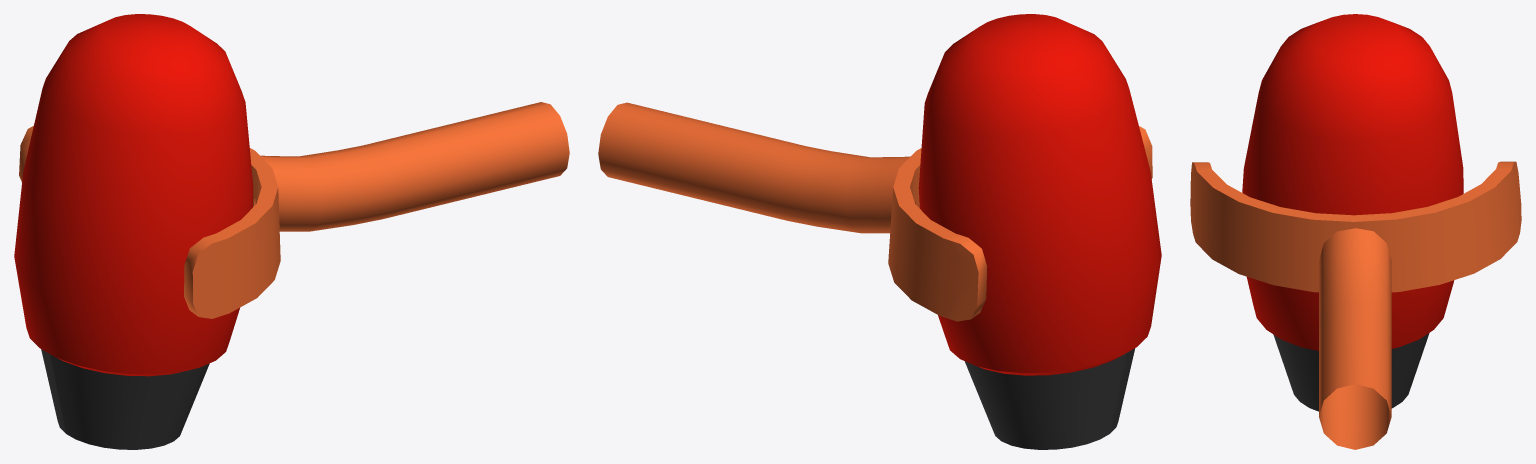
Rendered from Dron_Engine.fbx.
3 renders of one model, left to right at view 1: azimuth 30°, elevation 25°; view 2: azimuth 150°, elevation 25°; view 3: azimuth 270°, elevation 25°, orthographic. The views are drawn at different scales.
Visible parts, largest first — view 1: Engine_1, Arm_1, Holder_1; view 2: Engine_1, Arm_1, Holder_1; view 3: Engine_1, Holder_1, Arm_1.
Part boxes in pixels (x1,y1,x2,y2): Engine_1: (14,14,253,449); Arm_1: (253,102,569,231); Holder_1: (19,125,280,318); Engine_1: (918,14,1161,449); Arm_1: (598,102,916,233); Holder_1: (888,126,1152,321); Engine_1: (1242,14,1463,411); Holder_1: (1190,161,1521,292); Arm_1: (1319,228,1391,449).
Size of the model in its own units: 284 by 204 by 164.
